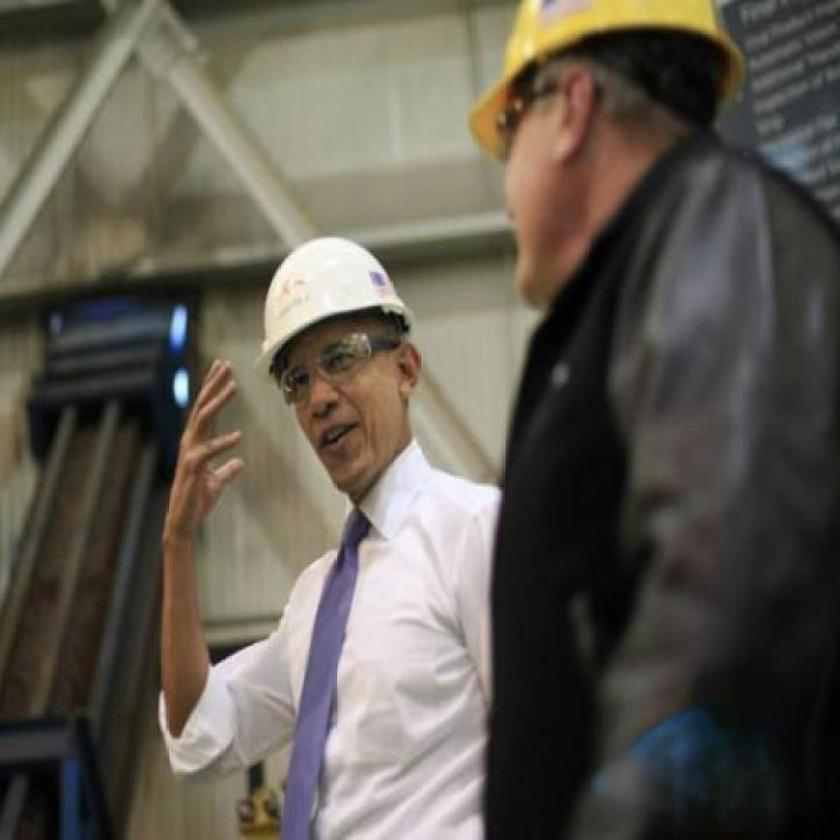Con_casco: (473, 0, 752, 315), (255, 230, 416, 500)
